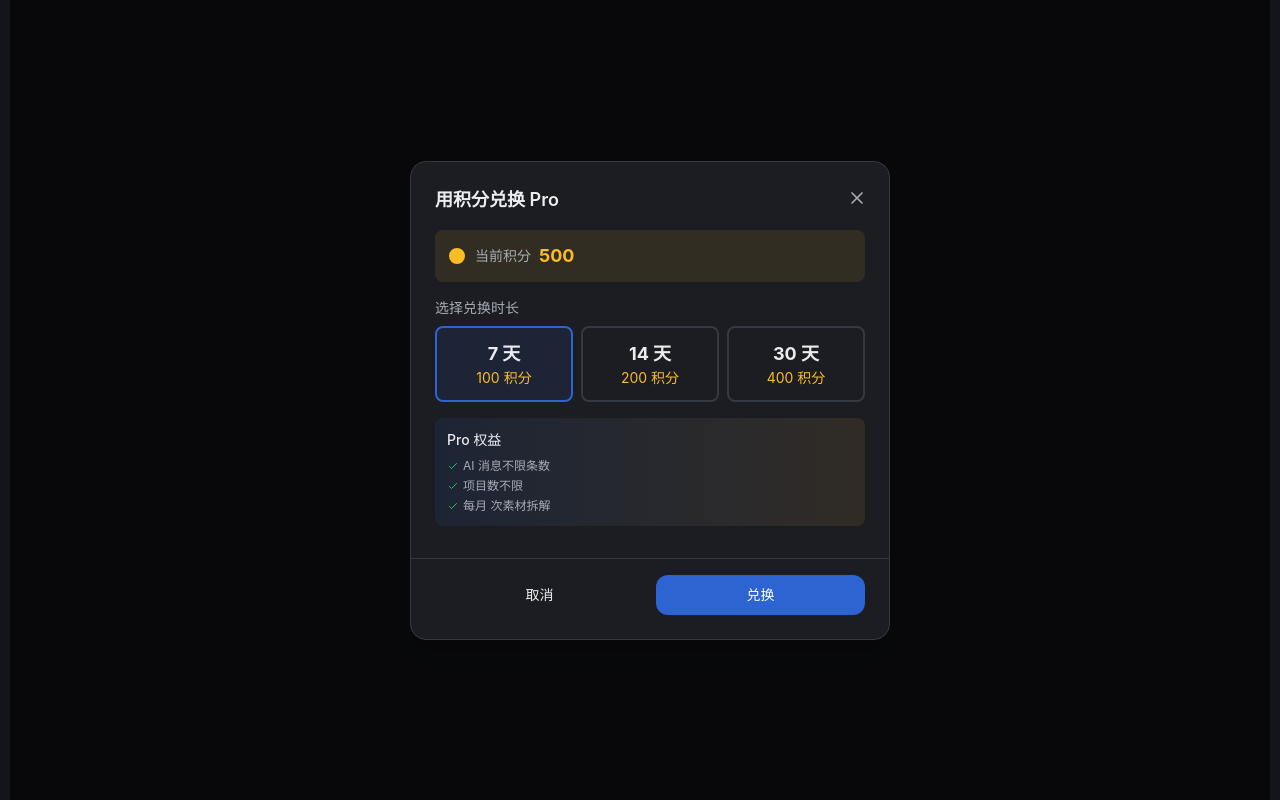
RedeemProModal › Error Handling › shows error message on redemption failure
The image size is (1280, 800).
What coordinates should you click on to do the following:
click the button "兑换"
I would click on:
 (760, 594)
Its box is [656, 574, 865, 614].
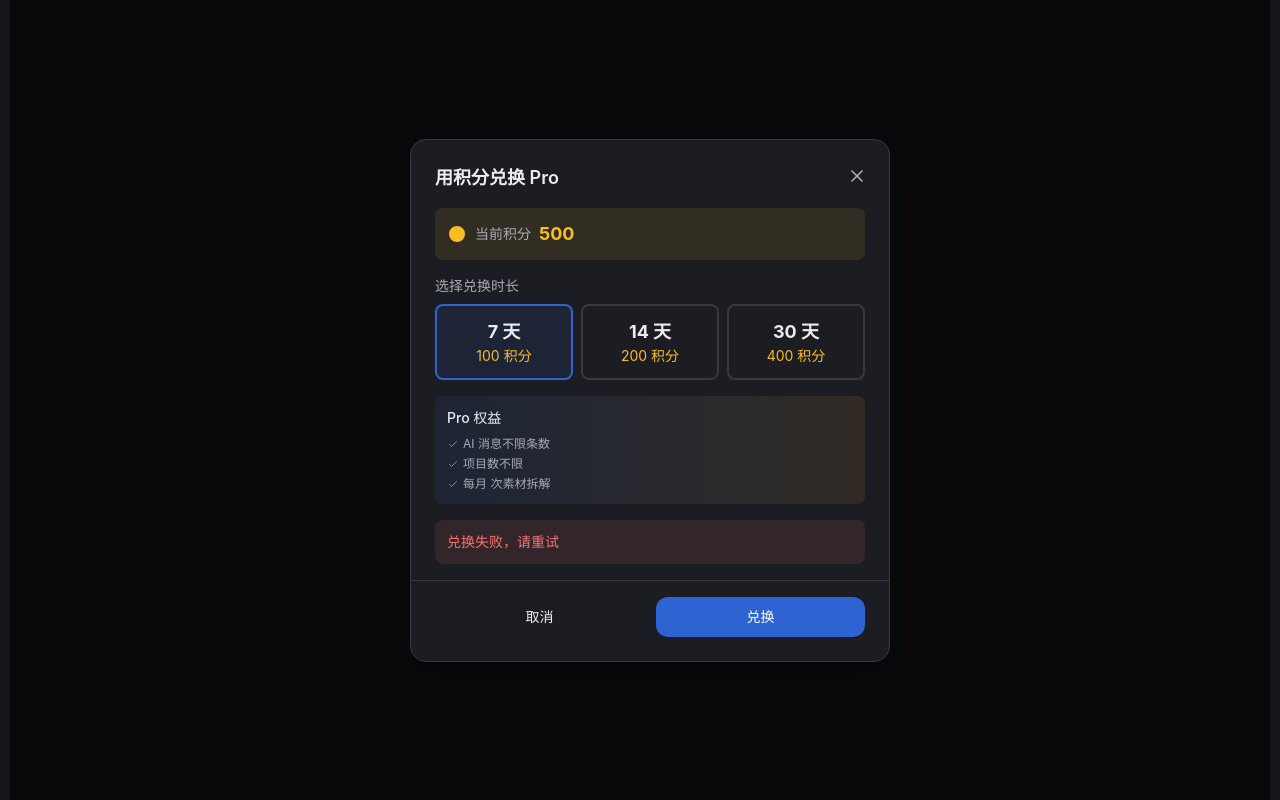
Expected: the text "兑换失败，请重试" is shown, [435, 520, 865, 564]
